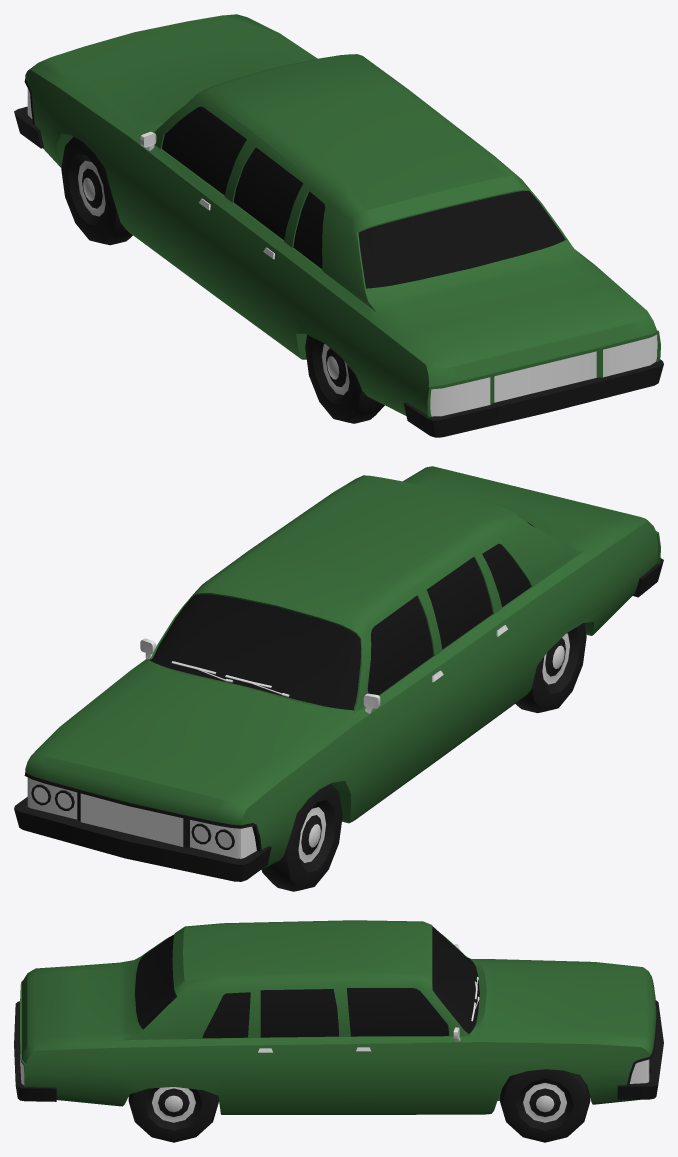
The model's file is Car2.fbx.
3 views of the same model, one above another, from view 1: azimuth 30°, elevation 25°; view 2: azimuth 150°, elevation 25°; view 3: azimuth 270°, elevation 25° (orthographic). The views are drawn at different scales.
Parts seen in each view (by area): view 1: Car2; view 2: Car2; view 3: Car2.
Boxes of the visible parts, x1,y1,x2,y2 form: Car2: [14, 14, 663, 437]; Car2: [14, 466, 663, 891]; Car2: [14, 920, 663, 1142].
Size of the model in its own units: 348 by 285 by 1058.
